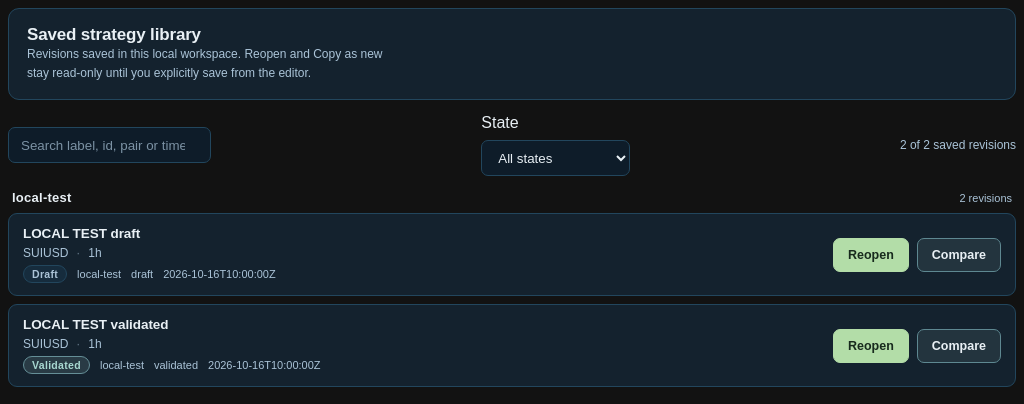
Test case: SavedStrategyLibrary state filter › unmounts other states and preserves the visible row's state chip
The width and height of the screenshot is (1024, 404).
Expected: the text "2 of 2 saved revisions" is shown, x1=900 y1=138 x2=1016 y2=152
Select "Draft" in the dropdown with test id "library-state-filter" at (556, 158), box x1=481 y1=140 x2=630 y2=176
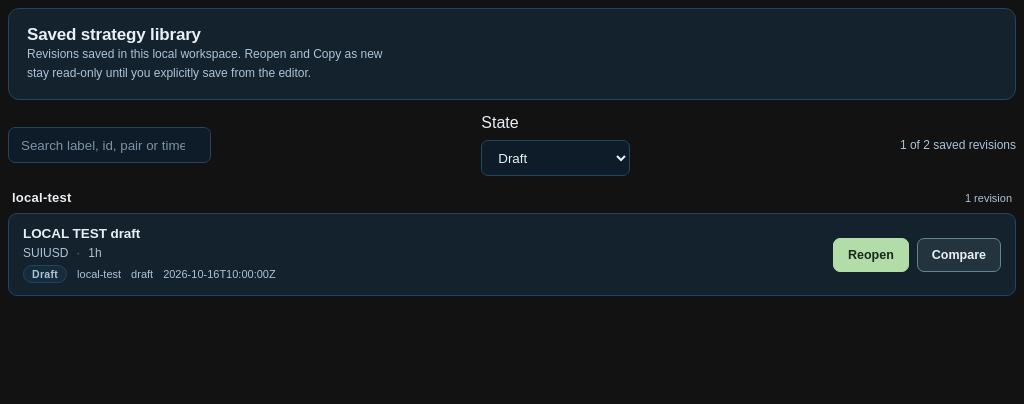
Expected: the number of list items with test id "library-row" is 1, x1=8 y1=213 x2=1016 y2=296
Expected: the text "LOCAL TEST validated" is gone
Expected: the text with test id "library-search-count" reads "1 of 2 saved revisions", x1=900 y1=138 x2=1016 y2=152
